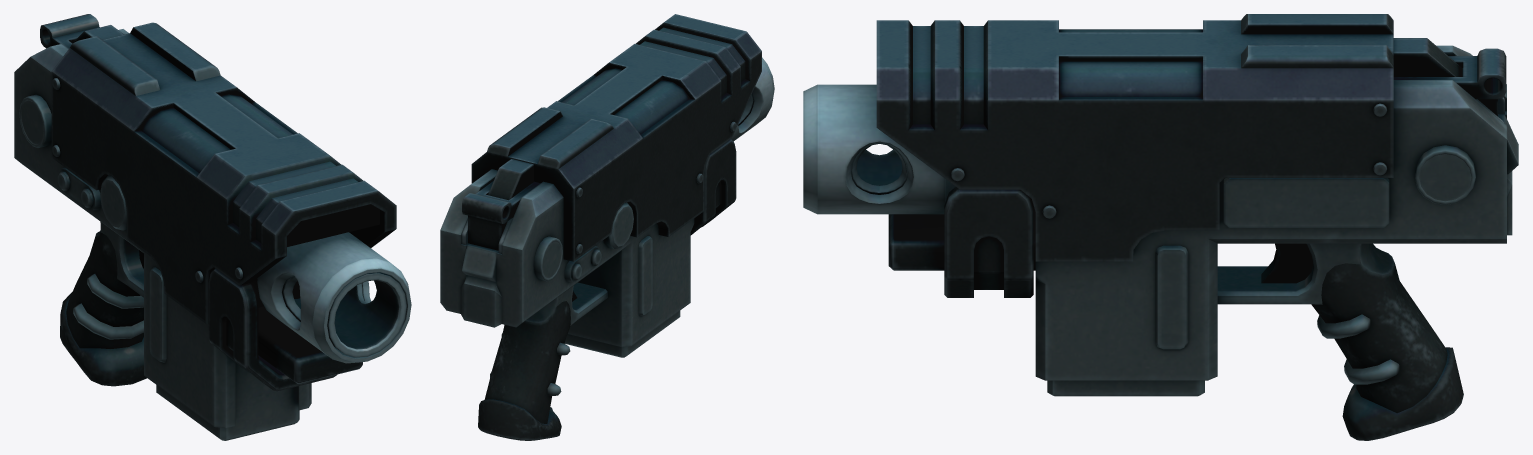
The model's file is pistola_bolter.obj.
3 renders of one model, left to right at view 1: azimuth 30°, elevation 25°; view 2: azimuth 150°, elevation 25°; view 3: azimuth 270°, elevation 25°, orthographic. The views are drawn at different scales.
Visible parts, largest first — view 1: pistola_bolter; view 2: pistola_bolter; view 3: pistola_bolter.
Boxes of the visible parts, x1=… form: pistola_bolter: x1=14, y1=14, x2=411, y2=440; pistola_bolter: x1=440, y1=14, x2=774, y2=440; pistola_bolter: x1=803, y1=14, x2=1518, y2=440.
Size of the model in its own units: 0.0973 by 0.2506 by 0.4123.
